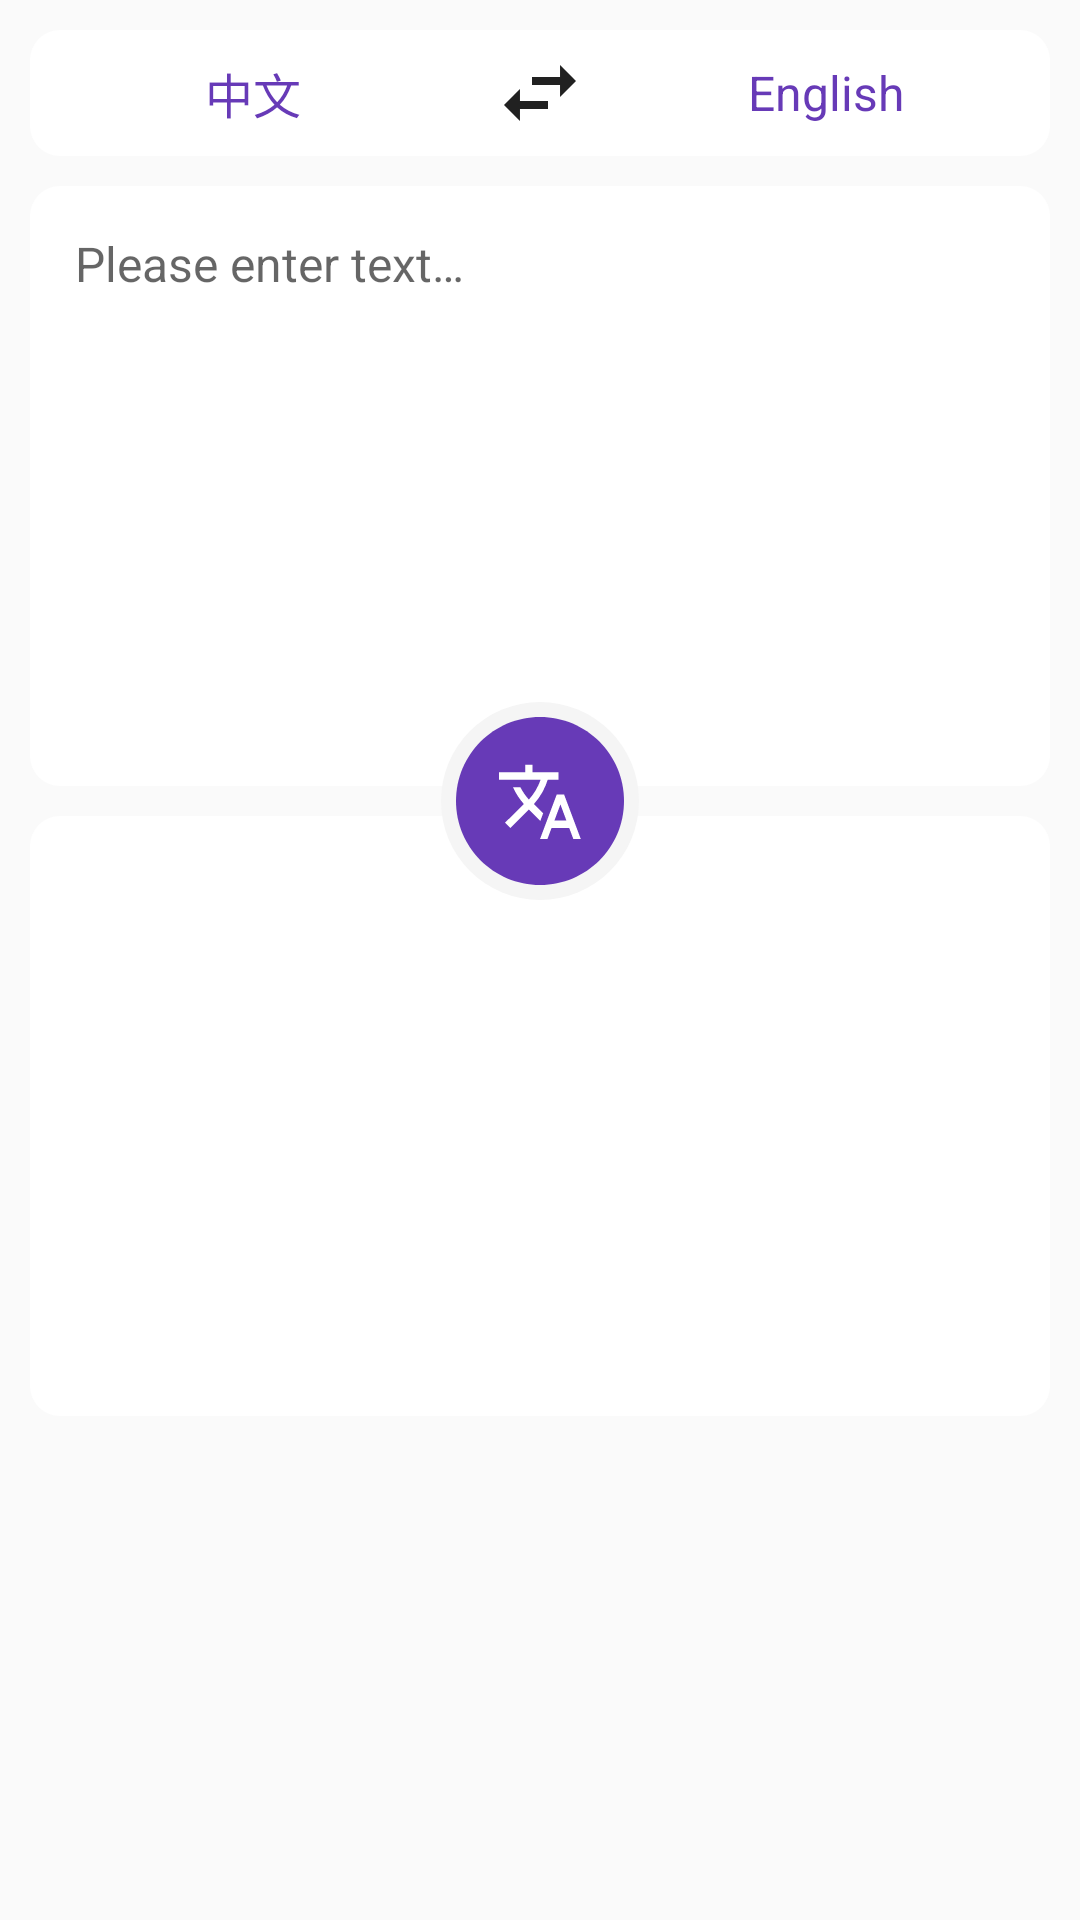

Icons on this 1080 × 1920 Android screen, each with its box as (x1, y1, x2, y2):
Swap: (504, 65, 576, 121)
Translation: (456, 717, 624, 885)
